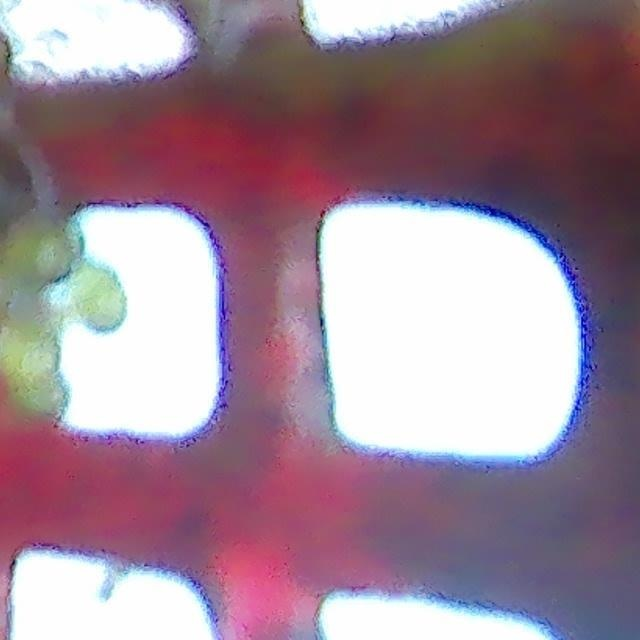SeaGrape: (12, 215, 76, 284), (74, 268, 126, 334)
